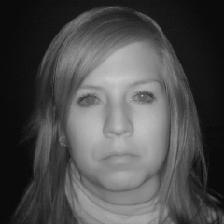sad: (28, 3, 212, 202)
